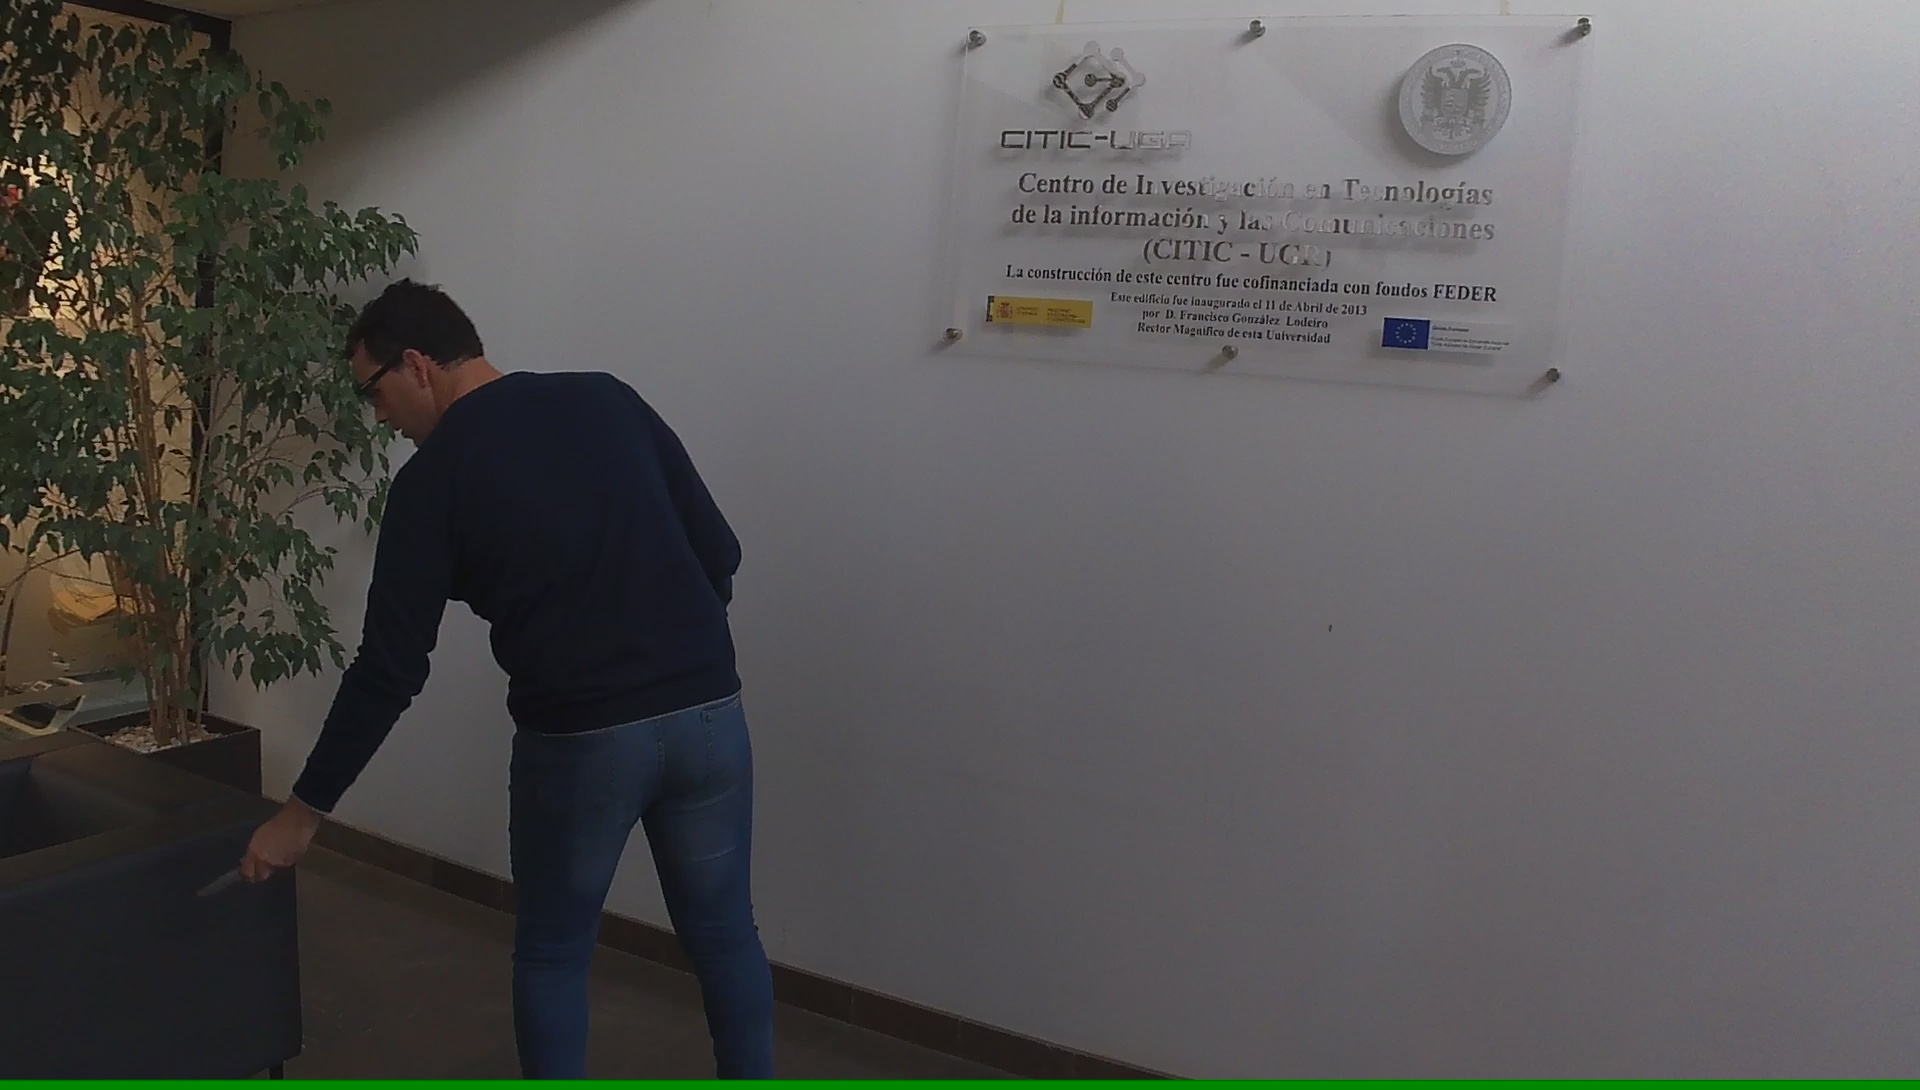knife: (182, 836, 295, 909)
